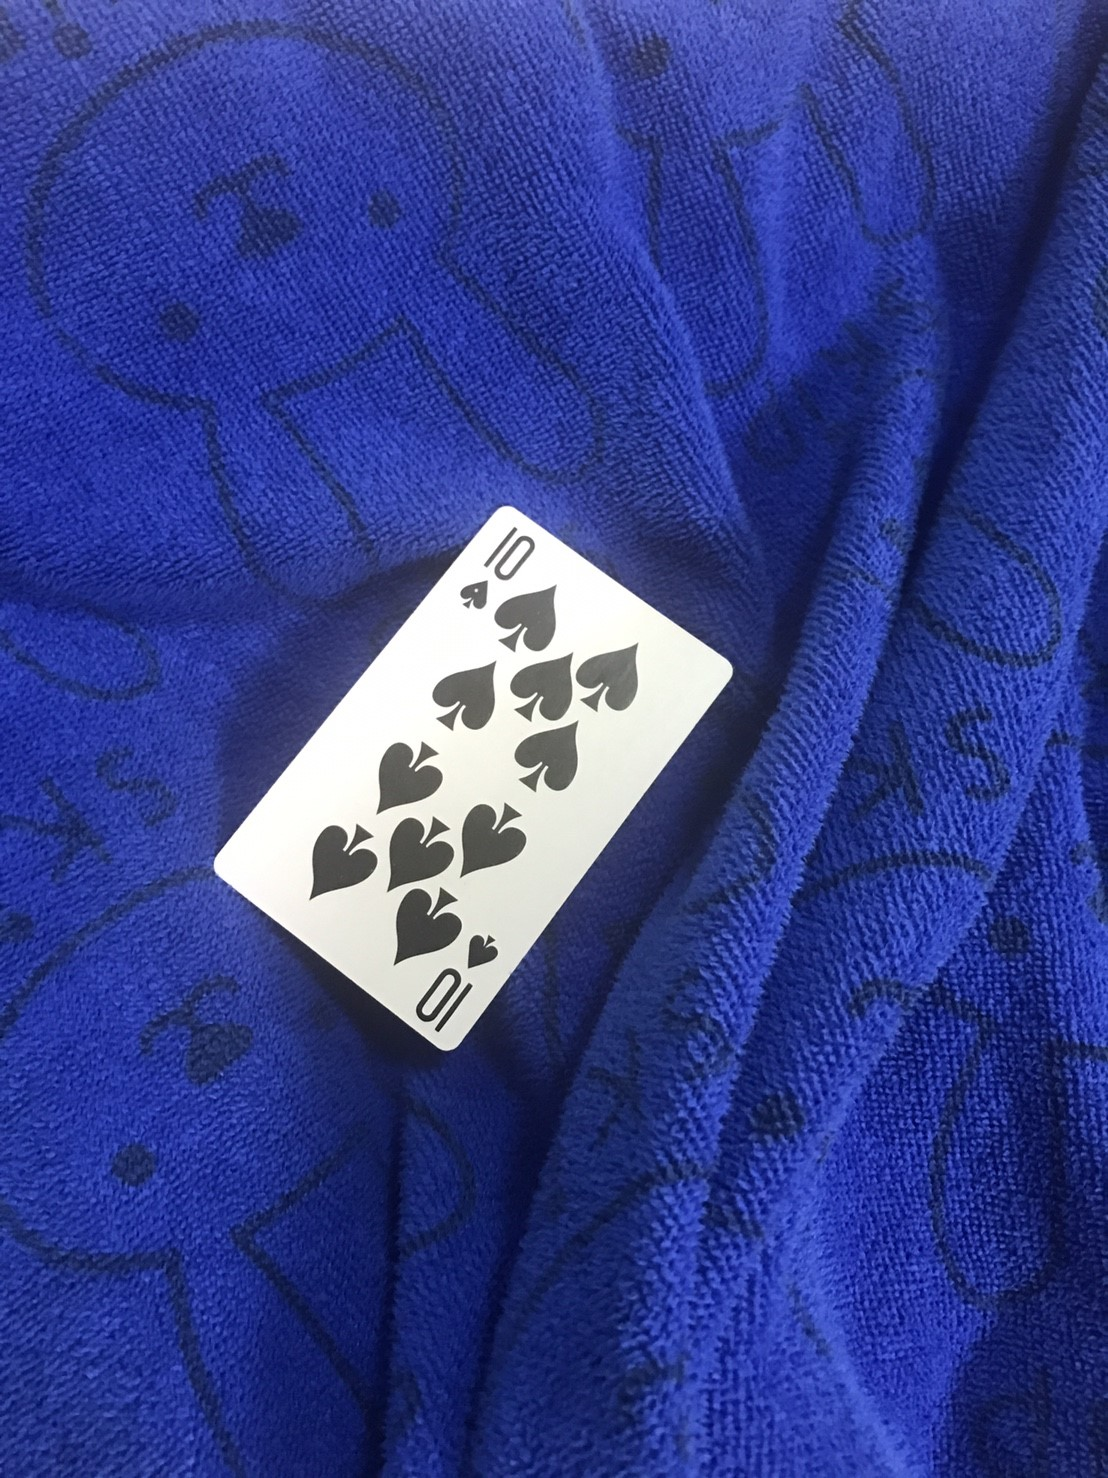spades: (308, 819, 379, 909), (575, 640, 648, 722), (461, 795, 530, 880), (511, 718, 582, 795), (386, 812, 455, 890), (427, 661, 498, 736), (493, 583, 563, 658), (396, 884, 460, 964), (510, 649, 578, 719), (372, 737, 446, 802), (466, 930, 505, 974), (455, 578, 491, 612)
